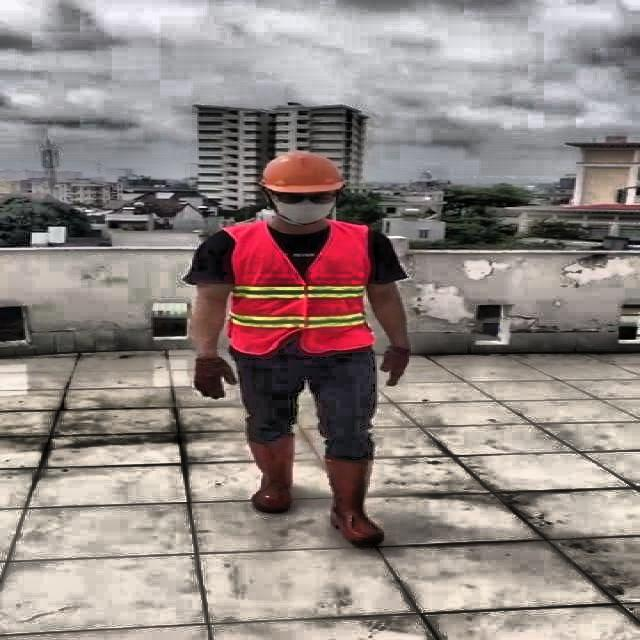safety_helmet: (260, 150, 348, 193)
safety_jacket: (226, 221, 372, 351)
